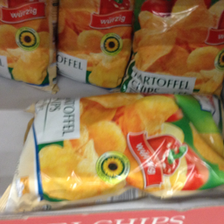chips: (10, 94, 223, 213), (123, 1, 222, 95), (58, 1, 128, 90), (1, 1, 56, 91)
